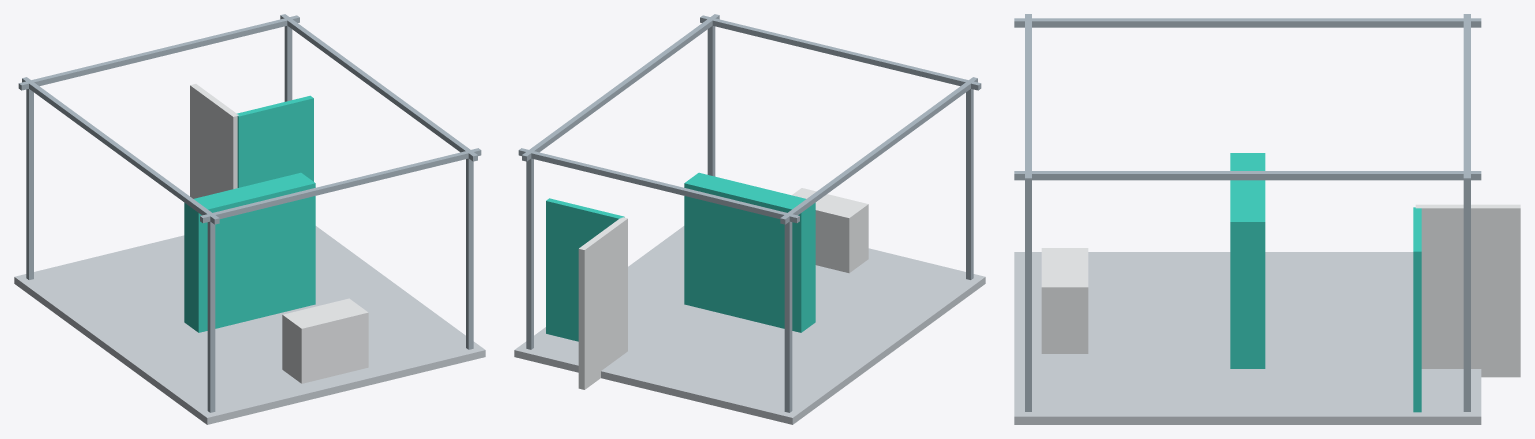
The picture shows the model from 3 angles, left to right: view 1: azimuth 30°, elevation 25°; view 2: azimuth 150°, elevation 25°; view 3: azimuth 270°, elevation 25°; orthographic projection. The views are drawn at different scales.
Parts seen in each view (by area): view 1: Exhibition Booth Concept; view 2: Exhibition Booth Concept; view 3: Exhibition Booth Concept.
Boxes of the visible parts, box(x1,y1,x2,y2) form: Exhibition Booth Concept: box(14, 14, 485, 424); Exhibition Booth Concept: box(514, 14, 985, 424); Exhibition Booth Concept: box(1014, 14, 1520, 424).
Bounding box in the file's own units: 5 × 3.49 × 6.51.
